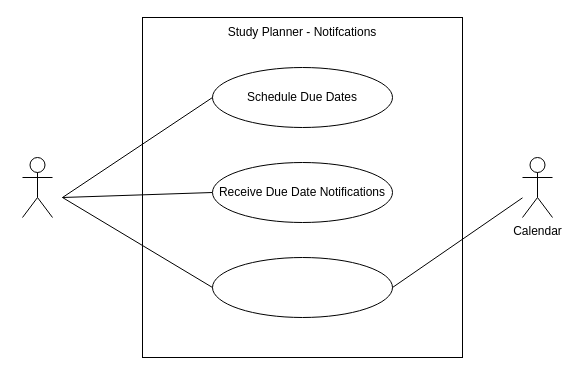
Some shapes in this 579 by 375 pixel diagram are drawn without their labels. The centre of each missing label's shape, as x and y in pixels:
"Receive Conflict Notifications" goes at pixel 302 287.
"Student" goes at pixel 37 187.
